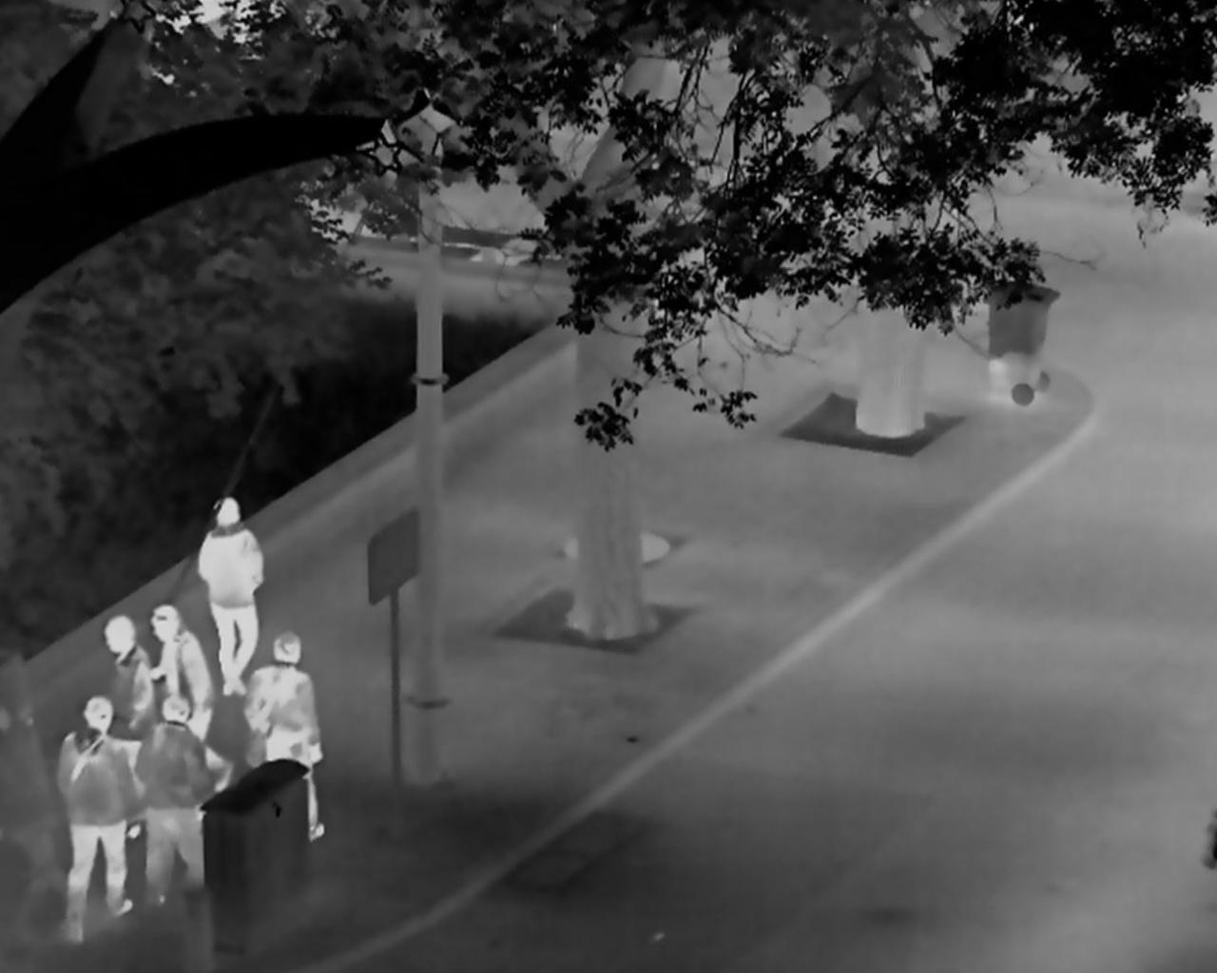person: (54, 696, 134, 944), (242, 631, 328, 842), (135, 696, 219, 906), (196, 495, 264, 696), (148, 605, 214, 741), (99, 614, 158, 740)
